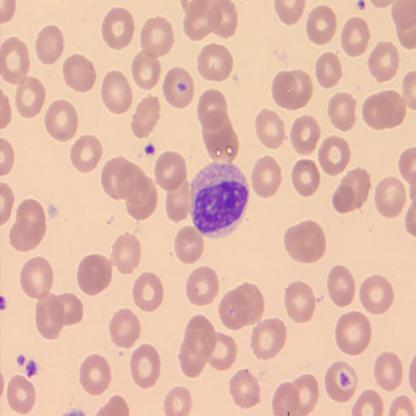Metamyelocyte: (187, 159, 252, 241)
